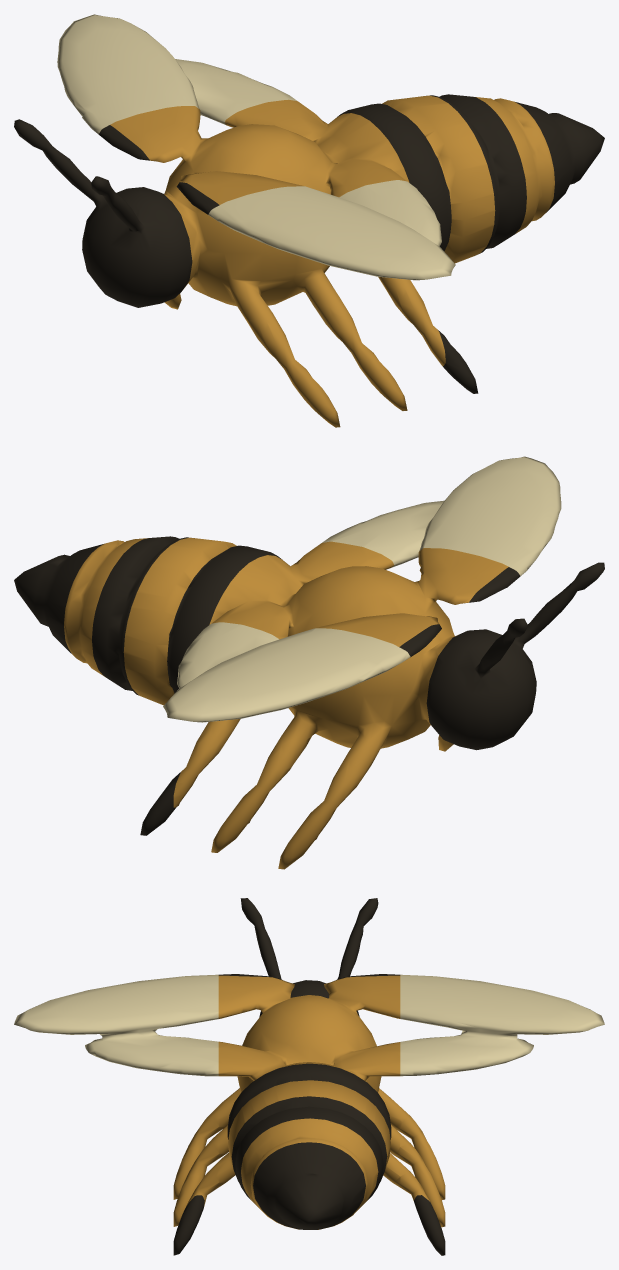
The model's file is NEW_RECOVERY_016_LOD0.fbx.
The picture shows the model from 3 angles, top to bottom: view 1: azimuth 30°, elevation 25°; view 2: azimuth 150°, elevation 25°; view 3: azimuth 270°, elevation 25°; orthographic projection. The views are drawn at different scales.
Parts seen in each view (by area): view 1: Bee_solid; view 2: Bee_solid; view 3: Bee_solid.
Boxes of the visible parts, <box> form: Bee_solid: <box>14,14,604,427</box>; Bee_solid: <box>14,456,604,869</box>; Bee_solid: <box>14,898,604,1255</box>.
Bounding box in the file's own units: 296 × 332 × 137.
